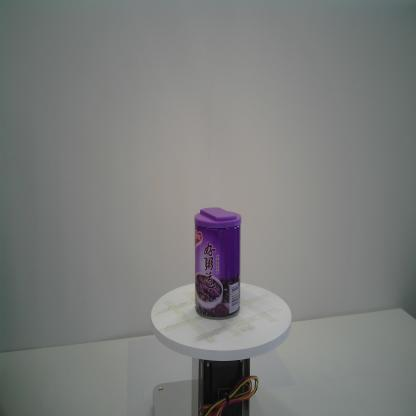Canned Food: (193, 205, 243, 321)
